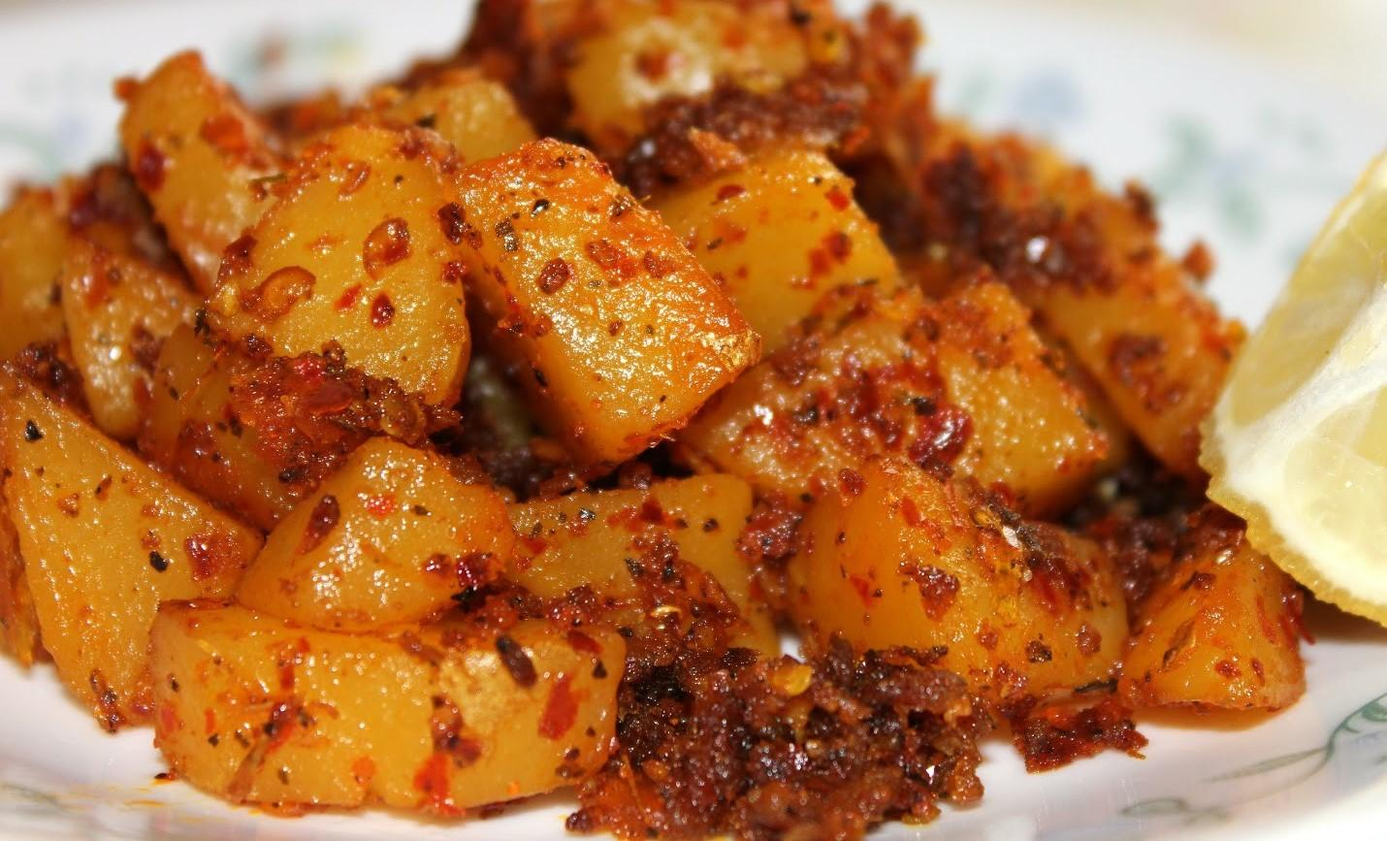AlooMasala: (0, 0, 1310, 841)
